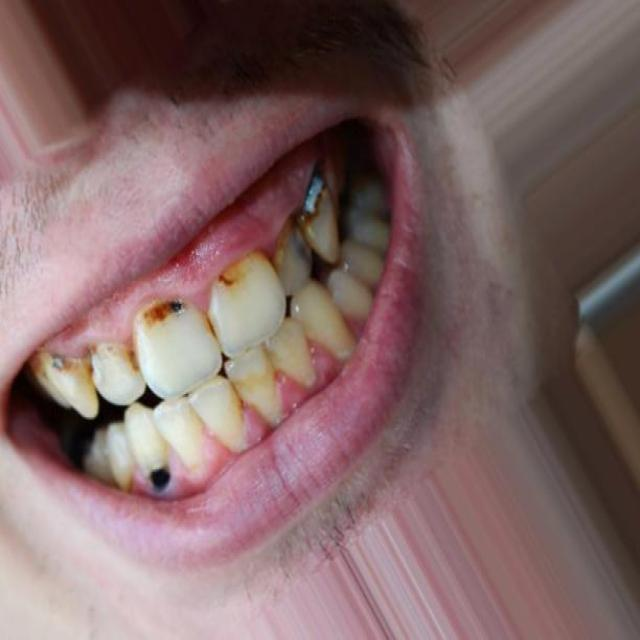caries: (274, 200, 328, 279), (134, 446, 188, 505), (127, 296, 195, 338), (211, 255, 277, 293), (44, 352, 116, 383)
